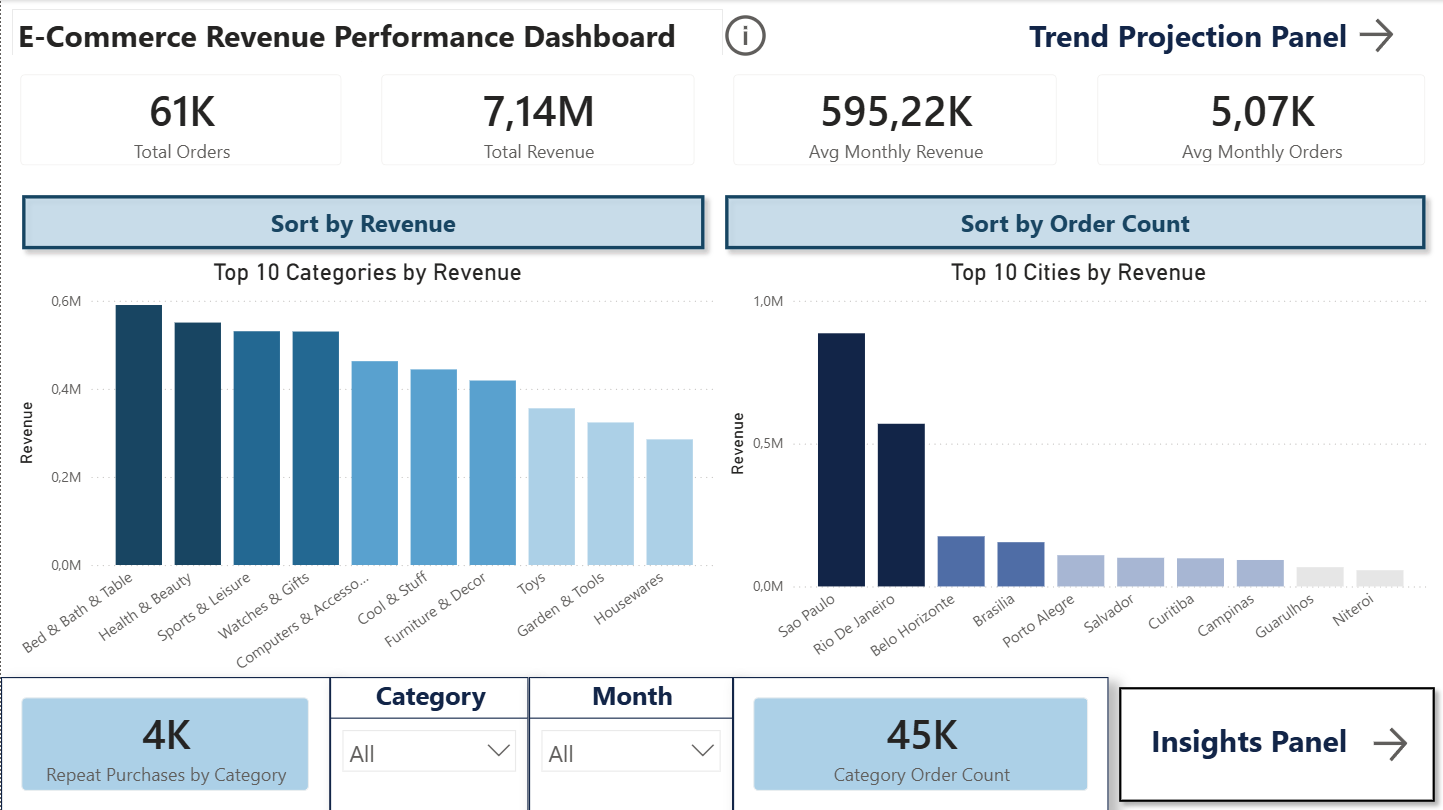

The page's visual inventory and layout, read from the dashboard file:
{"tool":"powerbi","page":{"name":"Revenue Drive","canvas":[1280,720],"ordinal":0},"visuals":[{"type":"textbox","box":[9.8,8,630.4,47],"z":0},{"type":"cardVisual","title":"TotalOrders","fields":{"Data":["Dashboard_2017.Sum of item_number total for item_number"]},"box":[0,49,319.7,115],"z":0,"group":"g2"},{"type":"actionButton","title":"Category_Button","box":[10,164,623,66],"z":0,"group":"g3"},{"type":"columnChart","title":"Top 10 Categories by Revenue","fields":{"Y":["Dashboard_2017.Total Revenue"],"Category":["product_category_name_translation.Column2"]},"box":[9.8,229.7,630.4,377.3],"z":0,"group":"g1"},{"type":"cardVisual","title":"TotalRevenue","fields":{"Data":["Sum(Dashboard_2017.item_revenue)"]},"box":[319.7,49,312.9,115],"z":1000,"group":"g2"},{"type":"actionButton","title":"OrderCount_Button","box":[633,164,639,66],"z":1000,"group":"g3"},{"type":"group","id":"g1","title":"Revenue_Charts","box":[9.8,229.7,1260.9,377.7],"z":1000},{"type":"columnChart","title":"Top 10 Cities by Revenue","fields":{"Y":["Dashboard_2017.Total Revenue"],"Category":["Dashboard_2017.city"]},"box":[640.2,229.7,630.4,377.3],"z":1000,"group":"g1"},{"type":"cardVisual","title":"AVGMonthlyRevenue","fields":{"Data":["Dashboard_2017.Avg Monthly Revenue"]},"box":[632.7,49,322,115],"z":2000,"group":"g2"},{"type":"group","id":"g2","title":"Cards","box":[0,49,1280,115],"z":3000},{"type":"cardVisual","title":"AVGMonthlyOrders","fields":{"Data":["Dashboard_2017.Avg Monthly Orders"]},"box":[954.6,49,325.4,115],"z":3000,"group":"g2"},{"type":"group","id":"g3","title":"Buttons","box":[10,164,1262,66],"z":4000},{"type":"cardVisual","fields":{"Data":["Dashboard_2017.Repeat Purchases by Category"]},"box":[0,600.3,291.7,119.7],"z":5000},{"type":"slicer","title":"Category","fields":{"Values":["product_category_name_translation.Column2"]},"box":[291.7,600.3,176.5,119.7],"z":6000},{"type":"slicer","title":"Month","fields":{"Values":["Dashboard_2017.Month Name"]},"box":[468.2,600.3,180.9,119.7],"z":7000},{"type":"cardVisual","fields":{"Data":["Dashboard_2017.Category Order Count"]},"box":[649.1,600.3,333.4,119.7],"z":8000},{"type":"actionButton","box":[1198.8,11.5,72.7,39.9],"z":9000},{"type":"actionButton","box":[636.7,8,251.8,47],"z":10000},{"type":"shape","box":[982.5,600.3,297.9,119.7],"z":11000},{"type":"actionButton","box":[1211.2,640.2,69.2,39.9],"z":12000},{"type":"textbox","box":[1008.2,633.1,190.6,47],"z":13000},{"type":"textbox","box":[897.3,8,301.5,47],"z":14000}]}

Visuals, with their boxes in screenshot pixels (x1, y1, x2, y2), scaled from the page's 1280x720 canvas onto the 1443x810 screenshot:
textbox: [left=11, top=9, right=722, bottom=62]
"TotalOrders" cardVisual: [left=0, top=55, right=360, bottom=184]
"Category_Button" actionButton: [left=11, top=184, right=714, bottom=259]
"Top 10 Categories by Revenue" columnChart: [left=11, top=258, right=722, bottom=683]
"TotalRevenue" cardVisual: [left=360, top=55, right=713, bottom=184]
"OrderCount_Button" actionButton: [left=714, top=184, right=1434, bottom=259]
"Revenue_Charts" group: [left=11, top=258, right=1433, bottom=683]
"Top 10 Cities by Revenue" columnChart: [left=722, top=258, right=1432, bottom=683]
"AVGMonthlyRevenue" cardVisual: [left=713, top=55, right=1076, bottom=184]
"Cards" group: [left=0, top=55, right=1442, bottom=184]
"AVGMonthlyOrders" cardVisual: [left=1076, top=55, right=1442, bottom=184]
"Buttons" group: [left=11, top=184, right=1434, bottom=259]
cardVisual - Dashboard_2017.Repeat Purchases by Category: [left=0, top=675, right=329, bottom=809]
"Category" slicer: [left=329, top=675, right=528, bottom=809]
"Month" slicer: [left=528, top=675, right=732, bottom=809]
cardVisual - Dashboard_2017.Category Order Count: [left=732, top=675, right=1108, bottom=809]
actionButton: [left=1351, top=13, right=1433, bottom=58]
actionButton: [left=718, top=9, right=1002, bottom=62]
shape: [left=1108, top=675, right=1442, bottom=809]
actionButton: [left=1365, top=720, right=1442, bottom=765]
textbox: [left=1137, top=712, right=1351, bottom=765]
textbox: [left=1012, top=9, right=1351, bottom=62]
